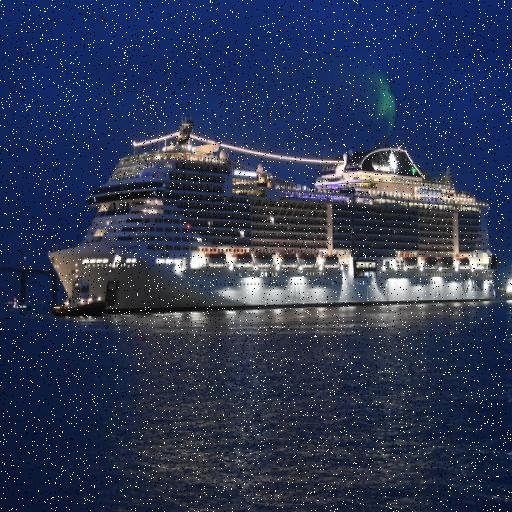cruises: (52, 109, 504, 314)
